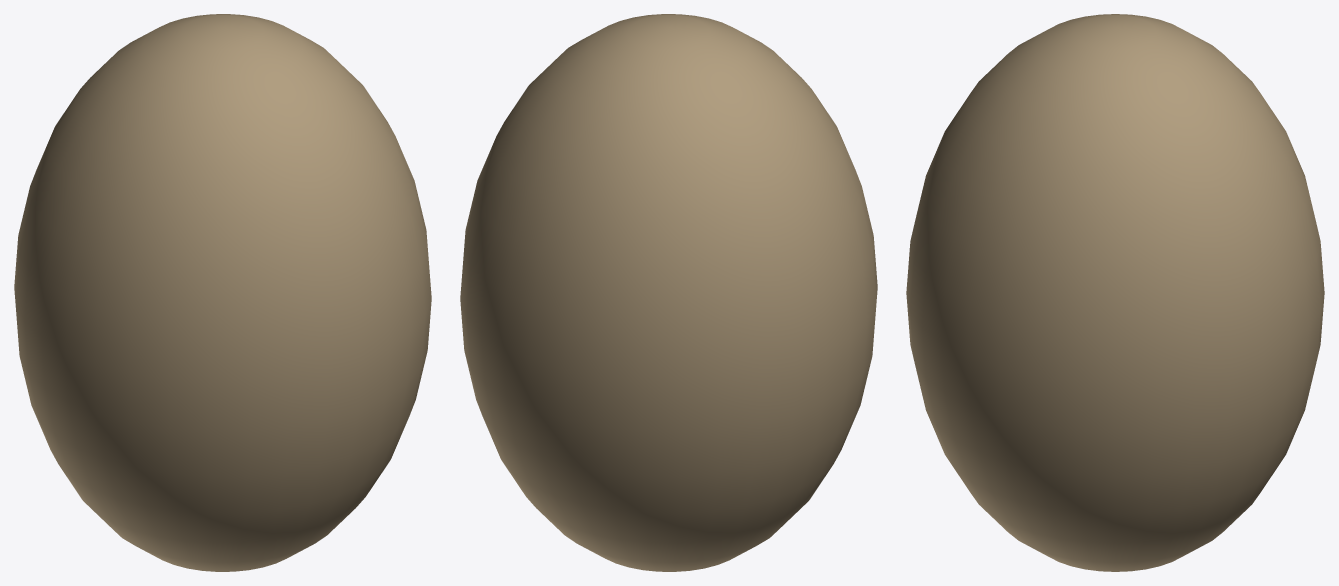
File: Oeuf_ProjetVR.fbx
The picture shows the model from 3 angles, left to right: view 1: azimuth 30°, elevation 25°; view 2: azimuth 150°, elevation 25°; view 3: azimuth 270°, elevation 25°; orthographic projection.
Parts seen in each view (by area): view 1: Sphere; view 2: Sphere; view 3: Sphere.
Boxes of the visible parts, x1,y1,x2,y2 form: Sphere: [14, 14, 431, 571]; Sphere: [460, 14, 877, 571]; Sphere: [906, 14, 1324, 571].
Size of the model in its own units: 10 by 14 by 10.
